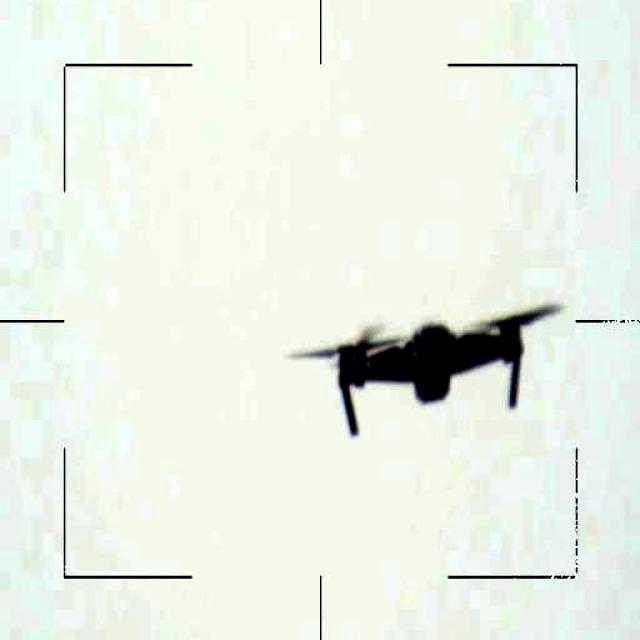bird: (296, 300, 565, 435)
